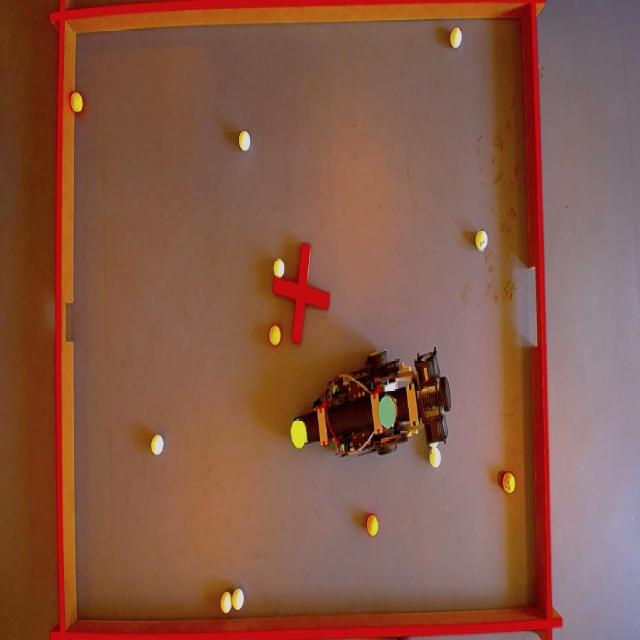orange: (366, 514, 382, 536), (69, 91, 84, 112), (503, 474, 518, 493)
robot: (290, 353, 460, 464)
robot-front: (290, 420, 309, 450)
robot-rear: (375, 390, 395, 430)
white: (449, 26, 464, 48), (152, 434, 166, 456), (238, 130, 251, 152), (267, 326, 281, 346), (232, 588, 244, 610), (430, 447, 443, 467), (272, 258, 284, 279), (474, 231, 488, 249), (222, 592, 234, 612)
